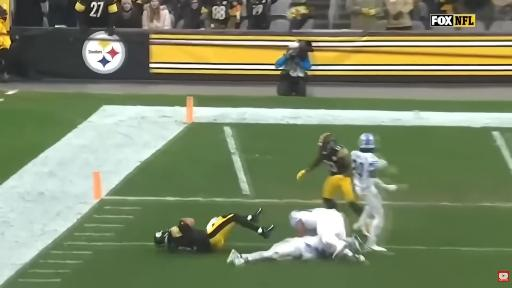Helmet: (358, 133, 376, 149), (349, 235, 364, 254), (154, 231, 167, 246), (318, 133, 333, 145), (289, 211, 300, 227)
Jersey: (351, 151, 386, 192), (166, 222, 211, 252), (320, 139, 351, 175), (290, 208, 326, 231), (300, 236, 326, 259)
Player: (351, 134, 399, 251), (297, 133, 362, 216), (154, 209, 273, 252), (290, 208, 363, 260), (227, 236, 326, 265)
